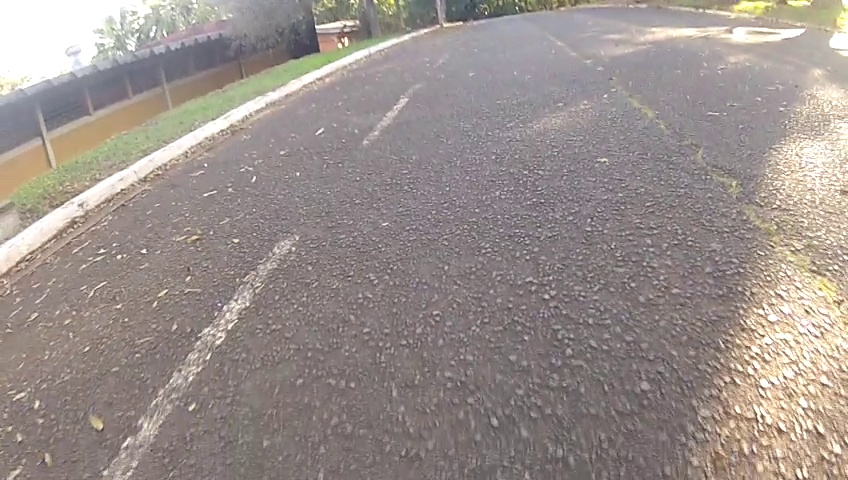TLT: (558, 55, 848, 361)
